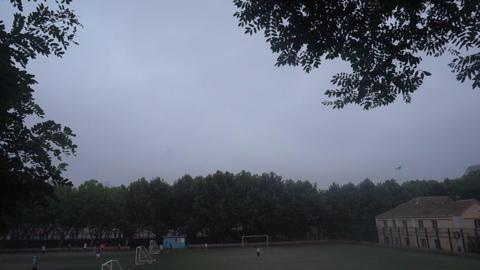UAV: (396, 165, 403, 170)
